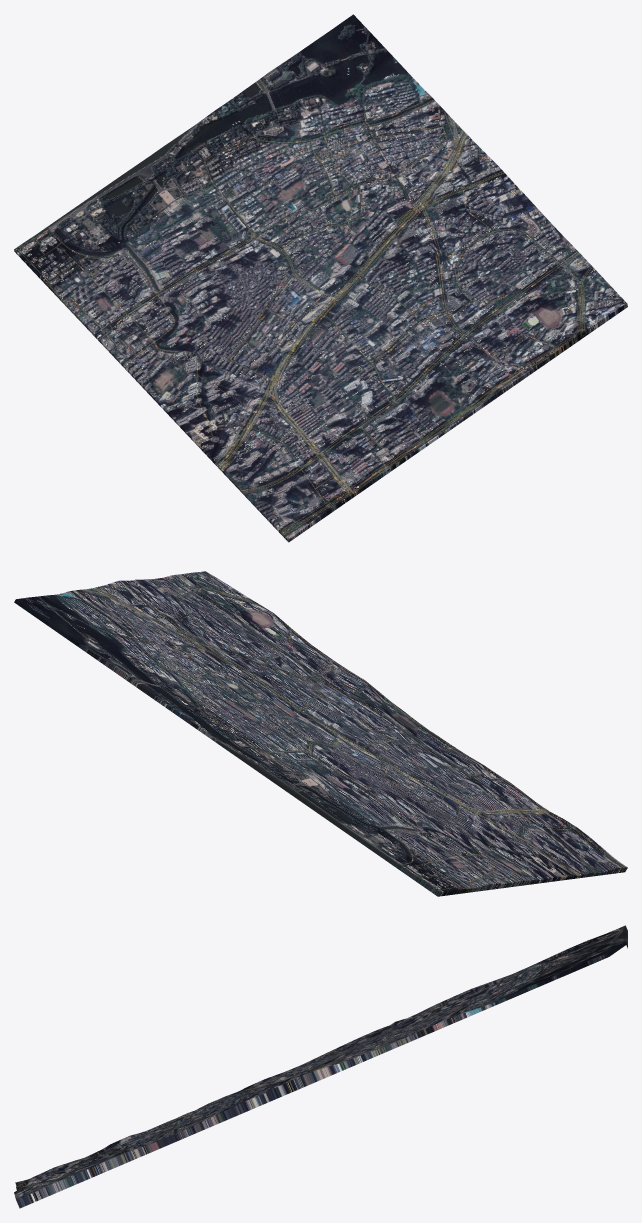
The picture shows the model from 3 angles, top to bottom: view 1: azimuth 30°, elevation 25°; view 2: azimuth 150°, elevation 25°; view 3: azimuth 270°, elevation 25°; orthographic projection. The views are drawn at different scales.
Visible parts, largest first — view 1: 2_2_4; view 2: 2_2_4; view 3: 2_2_4.
Boxes of the visible parts, box(x1,y1,x2,y2) form: 2_2_4: box(14, 14, 627, 542); 2_2_4: box(14, 571, 627, 896); 2_2_4: box(14, 925, 627, 1208).
Size of the model in its own units: 2453 by 1781 by 2259.
1 material, 1 textured.
